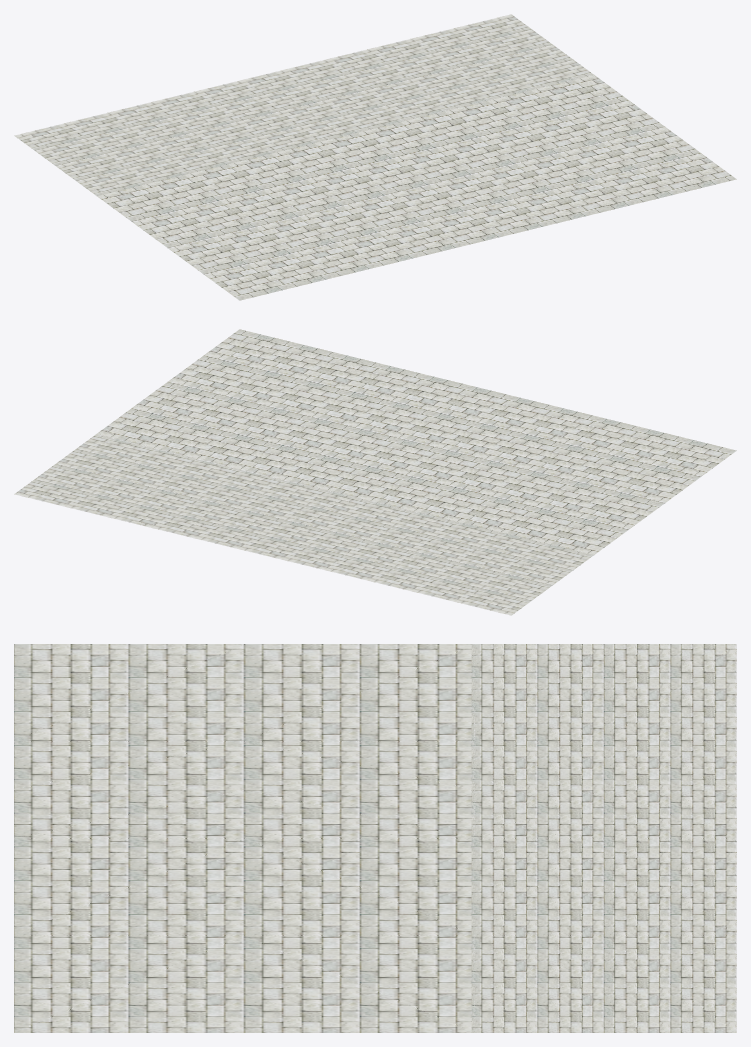
Rendered from HyruleCastle_Floor.obj.
3 views of the same model, one above another, from view 1: azimuth 30°, elevation 25°; view 2: azimuth 150°, elevation 25°; view 3: azimuth 270°, elevation 25° (orthographic). The views are drawn at different scales.
Visible parts, largest first — view 1: node_03718D74_0_1_2.002_naka_siro_01_45680, node_03718D74_0_1_2.001_naka_siro_01_45680; view 2: node_03718D74_0_1_2.002_naka_siro_01_45680, node_03718D74_0_1_2.001_naka_siro_01_45680; view 3: node_03718D74_0_1_2.002_naka_siro_01_45680, node_03718D74_0_1_2.001_naka_siro_01_45680.
Boxes of the visible parts, x1=… form: node_03718D74_0_1_2.002_naka_siro_01_45680: x1=97, y1=75, x2=736, y2=300; node_03718D74_0_1_2.001_naka_siro_01_45680: x1=14, y1=14, x2=593, y2=195; node_03718D74_0_1_2.002_naka_siro_01_45680: x1=96, y1=329, x2=736, y2=555; node_03718D74_0_1_2.001_naka_siro_01_45680: x1=14, y1=434, x2=593, y2=615; node_03718D74_0_1_2.002_naka_siro_01_45680: x1=14, y1=644, x2=475, y2=1032; node_03718D74_0_1_2.001_naka_siro_01_45680: x1=471, y1=644, x2=736, y2=1032.
Size of the model in its own units: 0.2526 by 0 by 0.1984.
